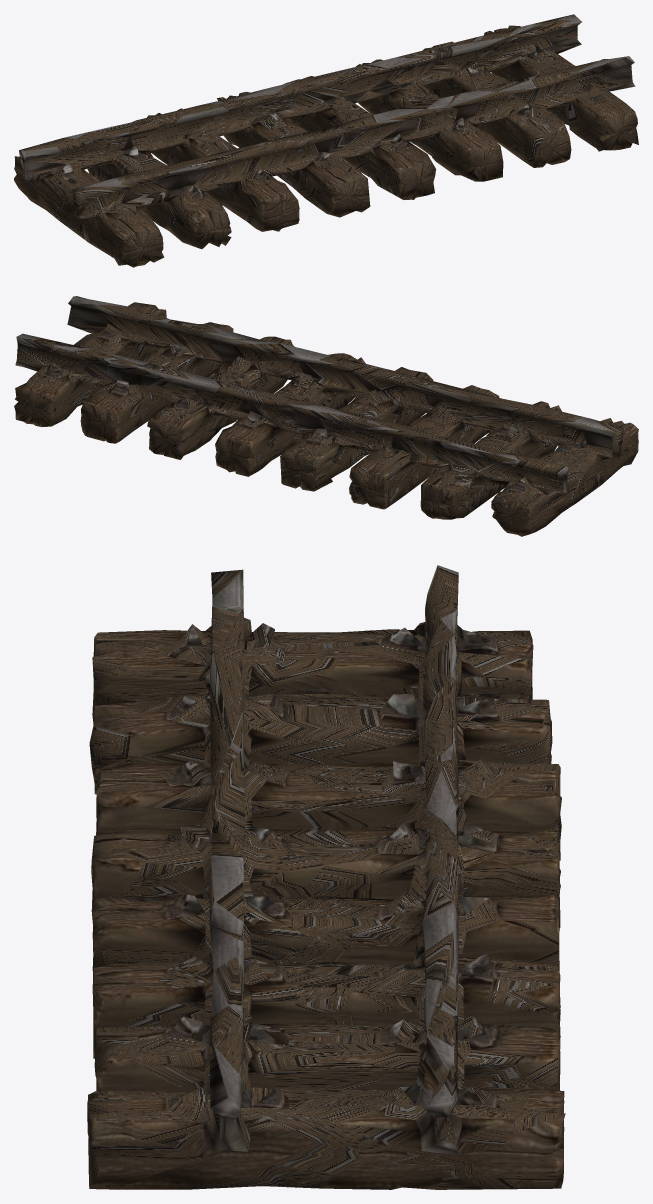
File: railway_track_02.glb
3 renders of one model, top to bottom at view 1: azimuth 30°, elevation 25°; view 2: azimuth 150°, elevation 25°; view 3: azimuth 270°, elevation 25°, orthographic. The views are drawn at different scales.
Visible parts, largest first — view 1: tripo_node_ac321152-27fb-4df1-955b-5e0b21175aae; view 2: tripo_node_ac321152-27fb-4df1-955b-5e0b21175aae; view 3: tripo_node_ac321152-27fb-4df1-955b-5e0b21175aae.
Part boxes in pixels (box(x1,y1,x2,y2)): tripo_node_ac321152-27fb-4df1-955b-5e0b21175aae: box(14, 14, 638, 267); tripo_node_ac321152-27fb-4df1-955b-5e0b21175aae: box(14, 296, 638, 536); tripo_node_ac321152-27fb-4df1-955b-5e0b21175aae: box(87, 565, 565, 1189).
Bounding box in the file's own units: 0.9853 × 0.1022 × 0.3715.
Materials: 1 (1 with a texture image).
